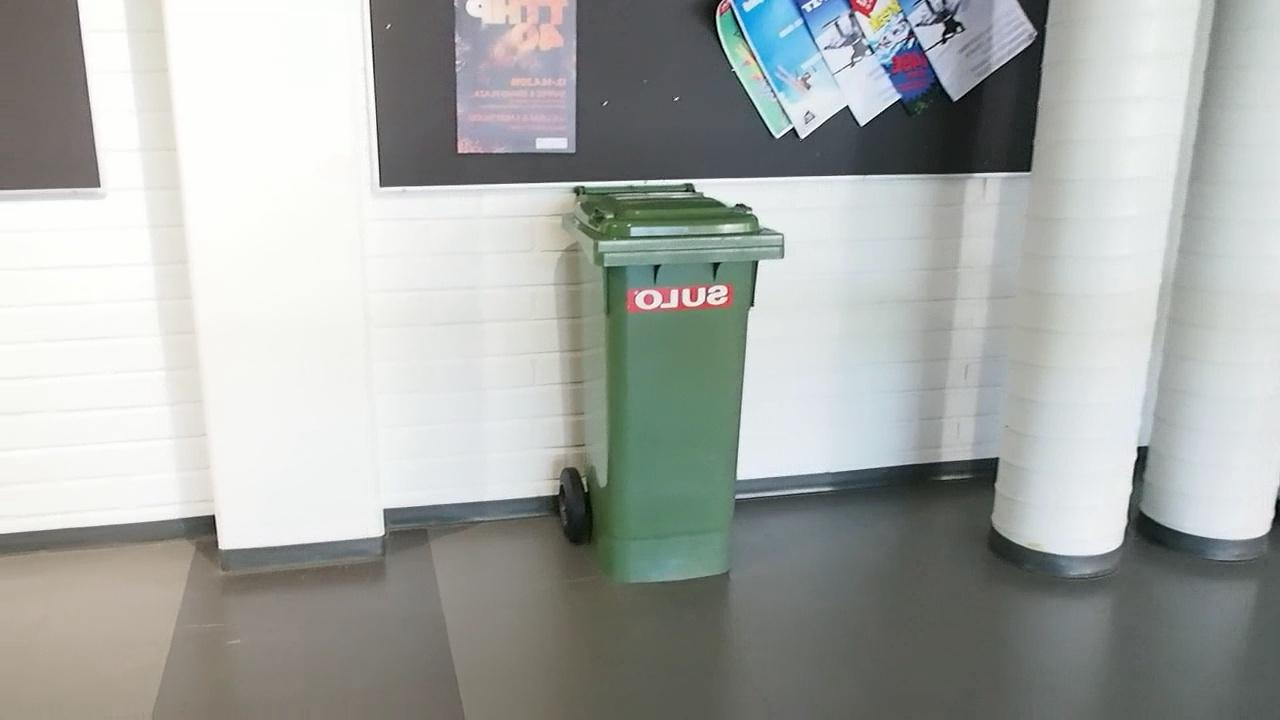trashbin: (591, 190, 780, 584)
